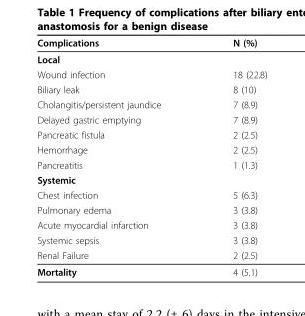table: (36, 36, 266, 277)
table column: (36, 36, 196, 277), (196, 36, 266, 277)
table column header: (36, 36, 266, 50)
table projected row header: (36, 50, 266, 66), (36, 171, 266, 187)
table row: (36, 50, 266, 66), (36, 141, 266, 157), (36, 171, 266, 187), (36, 247, 266, 263), (36, 66, 266, 81), (36, 81, 266, 96), (36, 96, 266, 111), (36, 111, 266, 126), (36, 126, 266, 141), (36, 187, 266, 202), (36, 202, 266, 217), (36, 217, 266, 232), (36, 232, 266, 247), (36, 36, 266, 50), (36, 157, 266, 171), (36, 263, 266, 277)
